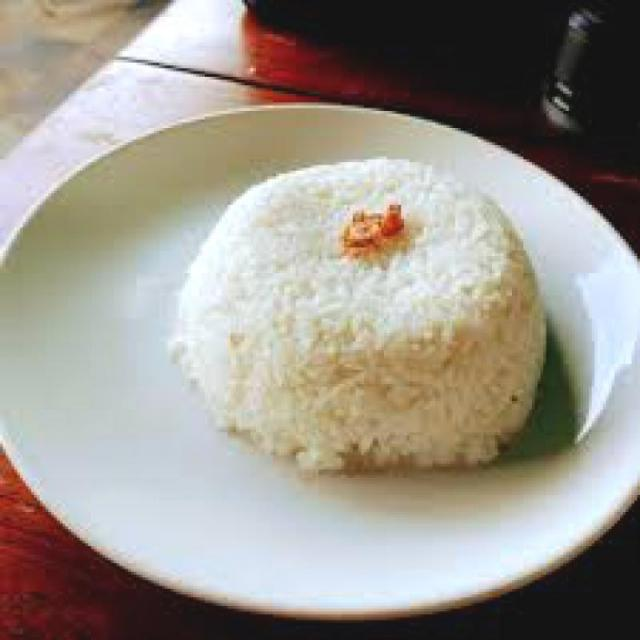rice: (176, 154, 549, 474)
